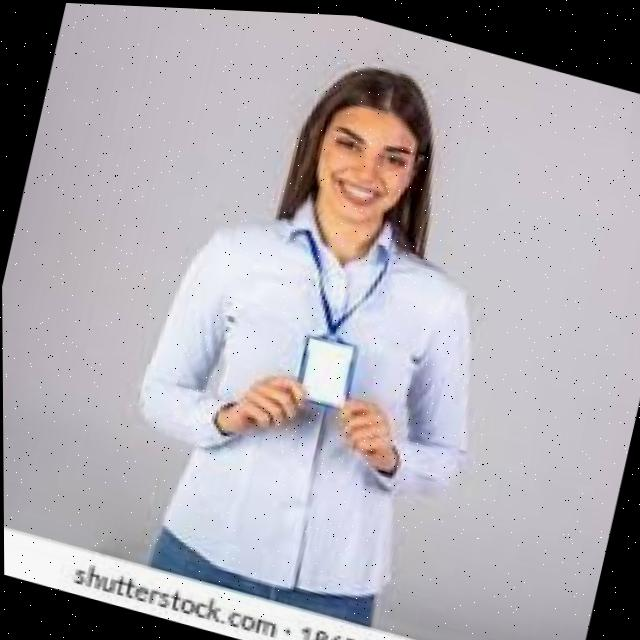id_card: (255, 208, 406, 422)
